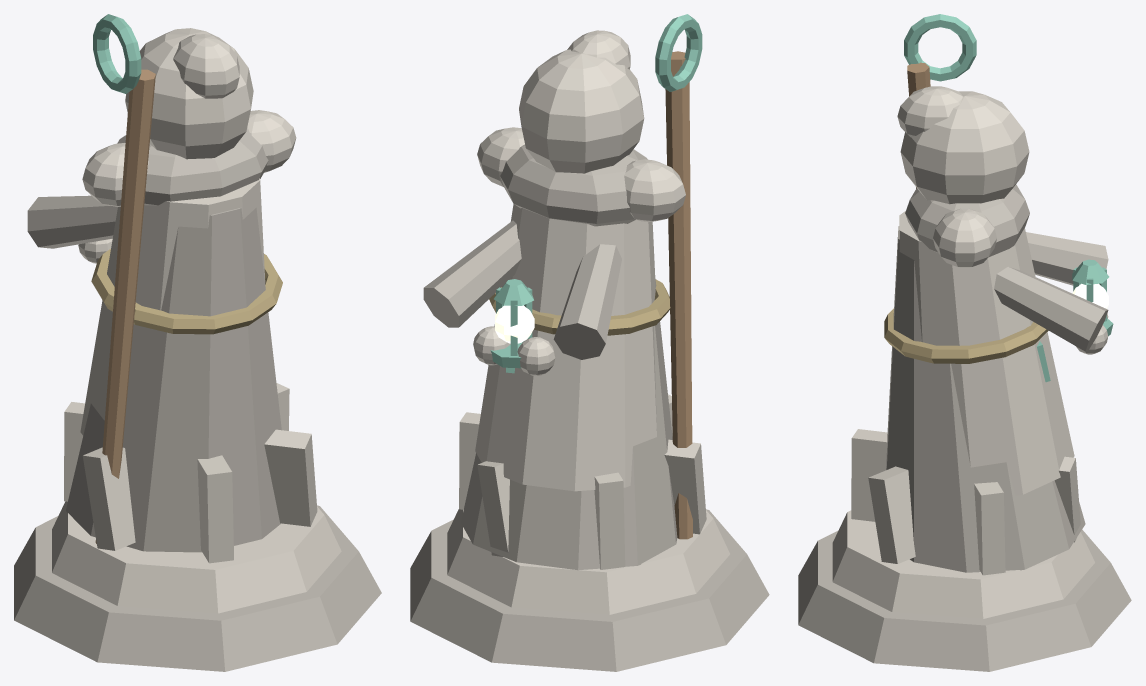
Rendered from warden_statue.glb.
3 renders of one model, left to right at view 1: azimuth 30°, elevation 25°; view 2: azimuth 150°, elevation 25°; view 3: azimuth 270°, elevation 25°, orthographic. The views are drawn at different scales.
Parts seen in each view (by area): view 1: UnderRobe, PlinthLow, PlinthHigh, Staff, Hood, OverShroud, Mantle, Belt, Fold5, SleeveL, Fold3, Fold4 (+5 smaller); view 2: OverShroud, PlinthLow, UnderRobe, PlinthHigh, Hood, Staff, Mantle, SleeveR, SleeveL, PauldronL, Fold2, Crook (+10 smaller); view 3: UnderRobe, OverShroud, PlinthLow, PlinthHigh, Hood, SleeveR, Mantle, Fold5, Belt, PauldronR, SleeveL, Fold0 (+6 smaller).
Part boxes in pixels (x1=…): UnderRobe: x1=66, y1=207, x2=281, y2=552; PlinthLow: x1=14, y1=505, x2=381, y2=671; PlinthHigh: x1=52, y1=501, x2=341, y2=613; Staff: x1=95, y1=69, x2=155, y2=543; Hood: x1=125, y1=28, x2=253, y2=159; OverShroud: x1=80, y1=178, x2=265, y2=435; Mantle: x1=117, y1=128, x2=268, y2=205; Belt: x1=91, y1=249, x2=282, y2=334; Fold5: x1=264, y1=429, x2=317, y2=526; SleeveL: x1=27, y1=195, x2=117, y2=248; Fold3: x1=82, y1=447, x2=135, y2=550; Fold4: x1=197, y1=455, x2=233, y2=563; OverShroud: x1=475, y1=204, x2=656, y2=491; PlinthLow: x1=410, y1=509, x2=769, y2=671; UnderRobe: x1=461, y1=279, x2=677, y2=570; PlinthHigh: x1=447, y1=509, x2=729, y2=614; Hood: x1=519, y1=49, x2=644, y2=173; Staff: x1=665, y1=51, x2=692, y2=539; Mantle: x1=500, y1=144, x2=647, y2=226; SleeveR: x1=423, y1=220, x2=521, y2=327; SleeveL: x1=553, y1=244, x2=621, y2=359; PauldronL: x1=624, y1=159, x2=685, y2=221; Fold2: x1=594, y1=472, x2=625, y2=569; Crook: x1=655, y1=14, x2=702, y2=91; UnderRobe: x1=886, y1=226, x2=1085, y2=572; OverShroud: x1=899, y1=211, x2=1074, y2=495; PlinthLow: x1=798, y1=529, x2=1131, y2=671; PlinthHigh: x1=832, y1=510, x2=1094, y2=618; Hood: x1=900, y1=91, x2=1029, y2=204; SleeveR: x1=994, y1=267, x2=1108, y2=351; Mantle: x1=905, y1=184, x2=1029, y2=256; Fold5: x1=868, y1=466, x2=915, y2=563; Belt: x1=884, y1=308, x2=1048, y2=363; PauldronR: x1=933, y1=208, x2=996, y2=267; SleeveL: x1=1026, y1=232, x2=1108, y2=285; Fold0: x1=974, y1=482, x2=1005, y2=575.
Size of the model in its own units: 1.3 by 2.33 by 1.28.
